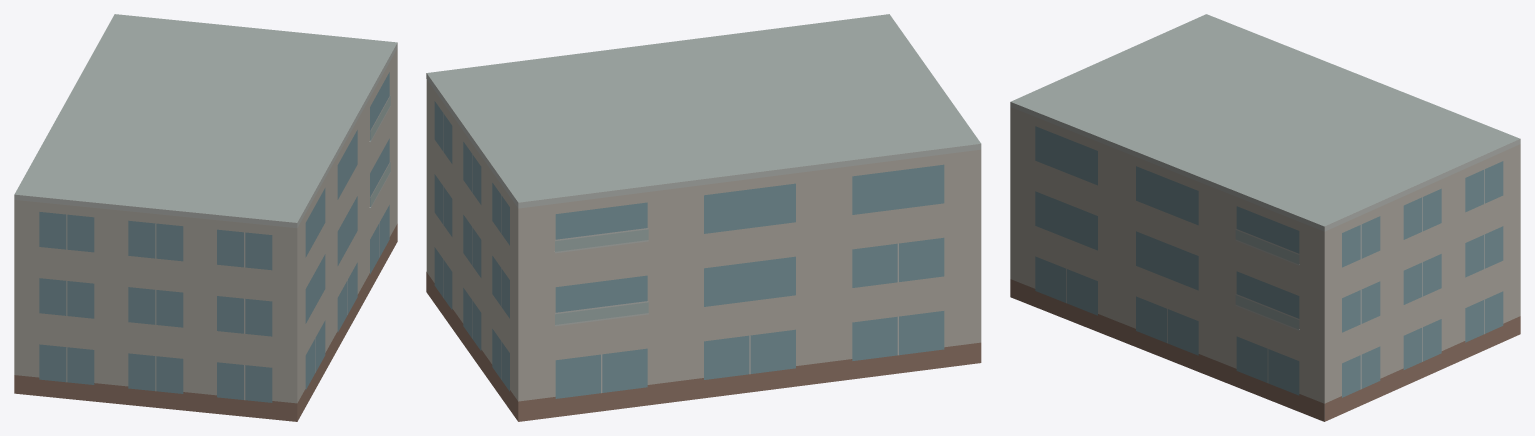
Rendered from survey-upis-32840951.glb.
The picture shows the model from 3 angles, left to right: view 1: azimuth 30°, elevation 25°; view 2: azimuth 150°, elevation 25°; view 3: azimuth 270°, elevation 25°; orthographic projection. The views are drawn at different scales.
Parts seen in each view (by area): view 1: survey-upis-32840951.tmp; view 2: survey-upis-32840951.tmp; view 3: survey-upis-32840951.tmp.
Part boxes in pixels (x1,y1,x2,y2): survey-upis-32840951.tmp: [14, 14, 397, 421]; survey-upis-32840951.tmp: [426, 14, 981, 421]; survey-upis-32840951.tmp: [1010, 14, 1520, 421].
Size of the model in its own units: 21.35 by 9.15 by 21.66.
